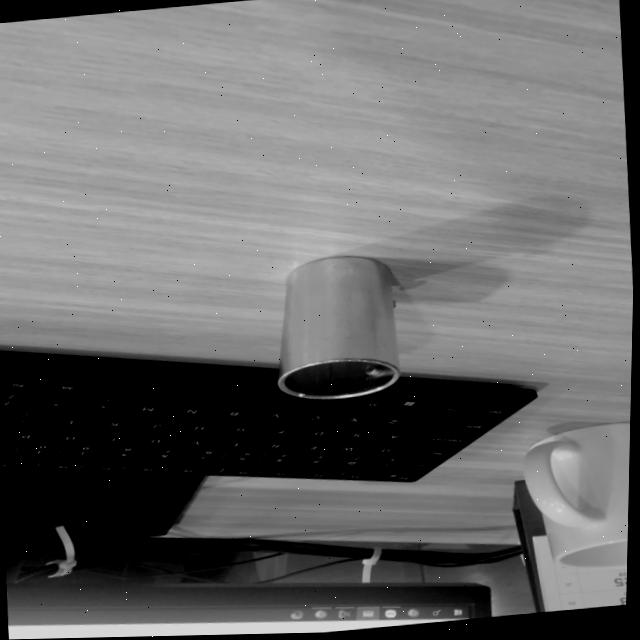Co_Lon: (268, 251, 401, 401)
